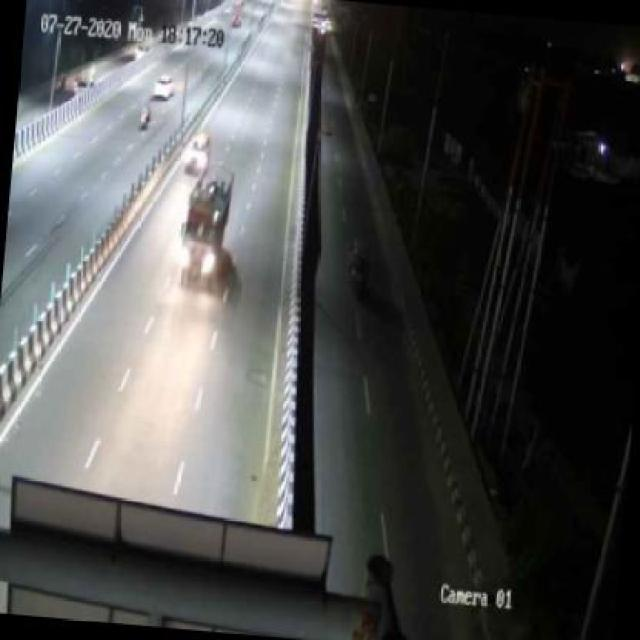car: (182, 124, 223, 174)
